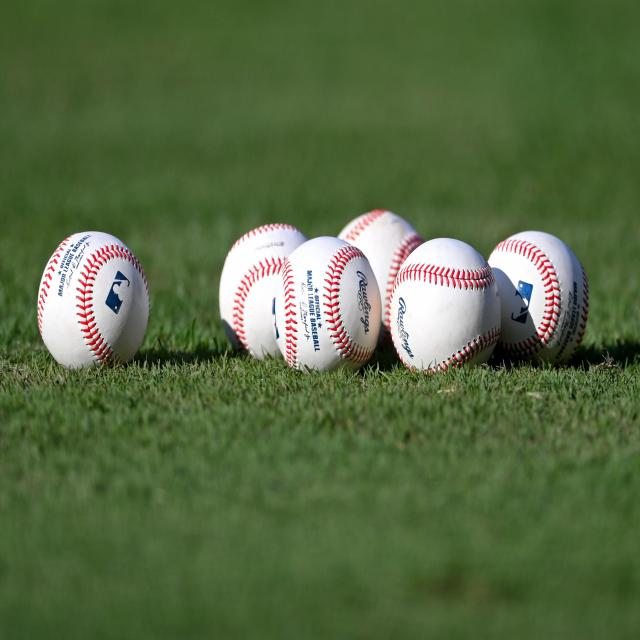baseball: (34, 230, 149, 371), (391, 238, 499, 376), (277, 236, 379, 375), (492, 231, 590, 363), (217, 222, 282, 357)
